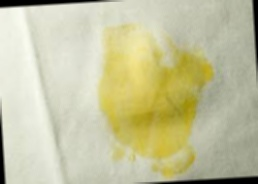mustard: (99, 28, 222, 182)
